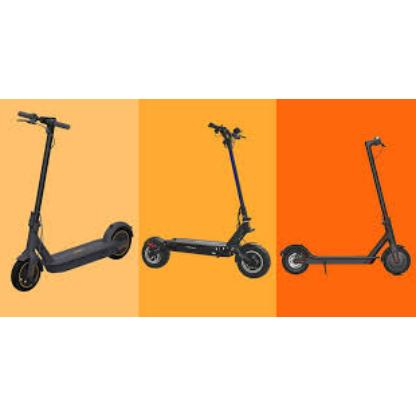bike: (141, 122, 271, 280)
